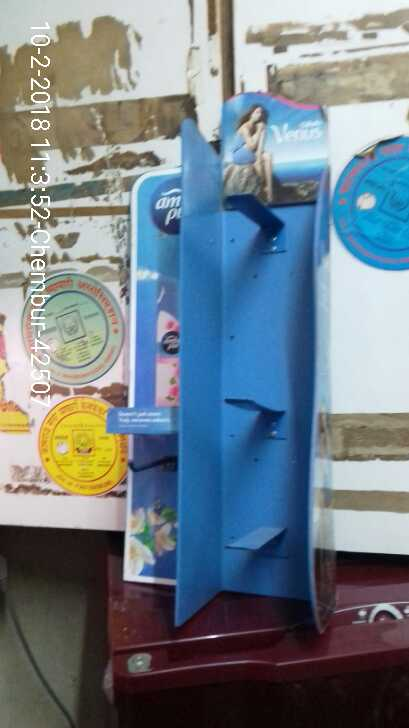reject: (116, 252, 241, 372)
